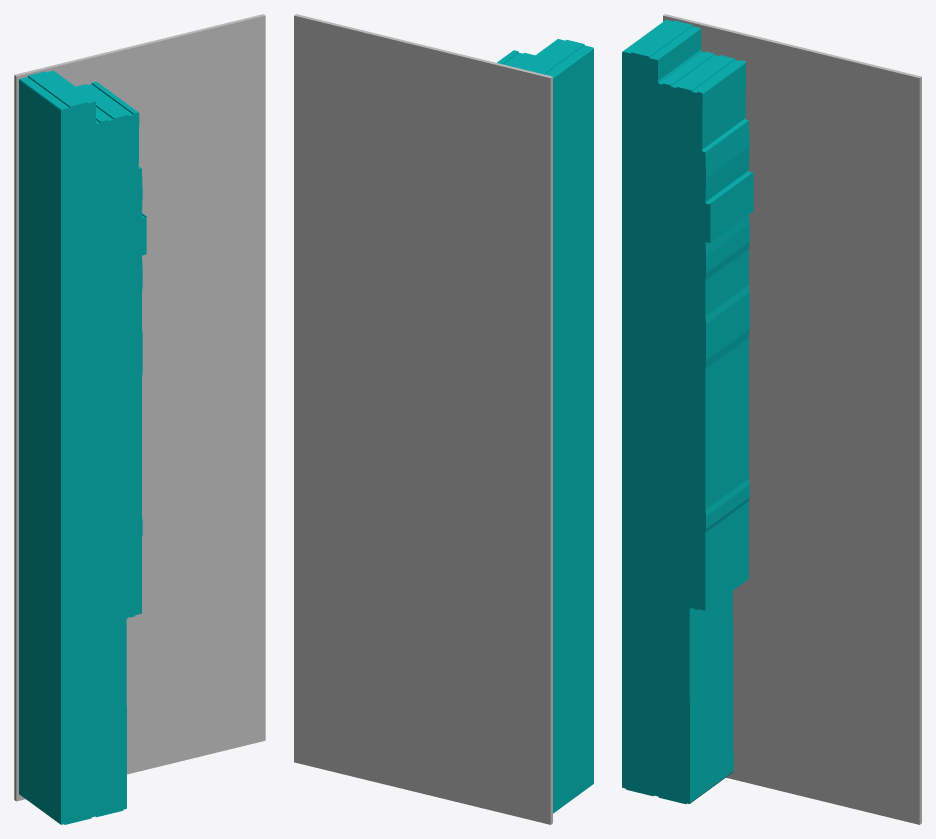
The picture shows the model from 3 angles, left to right: view 1: azimuth 30°, elevation 25°; view 2: azimuth 150°, elevation 25°; view 3: azimuth 330°, elevation 25°; orthographic projection. The views are drawn at different scales.
Parts seen in each view (by area): view 1: world; view 2: world; view 3: world.
Part boxes in pixels (x1,y1,x2,y2): world: (14, 14, 265, 824); world: (294, 14, 593, 824); world: (622, 14, 921, 824).
Size of the model in its own units: 10.23 by 28.44 by 3.15.
